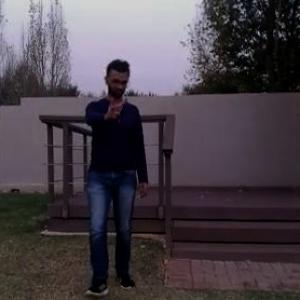takeoff-hand: (98, 90, 122, 123)
